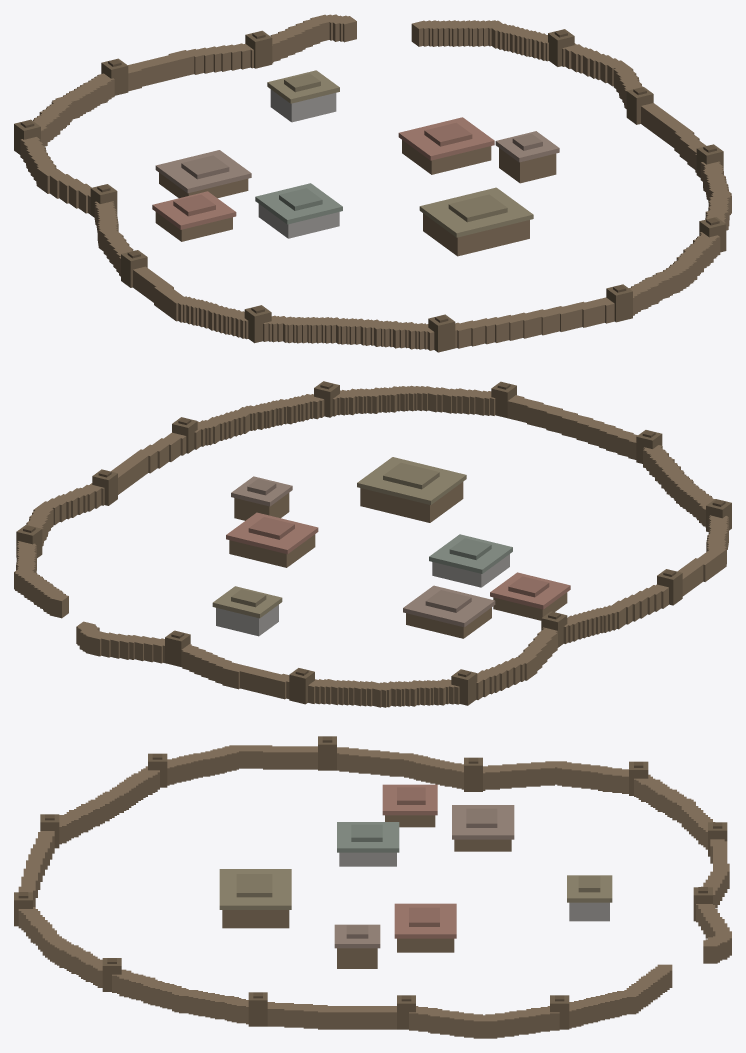
File: ciudad_guarida_bandidos_3117_63_01.glb
3 views of the same model, one above another, from view 1: azimuth 30°, elevation 25°; view 2: azimuth 150°, elevation 25°; view 3: azimuth 270°, elevation 25° (orthographic). The views are drawn at different scales.
Visible parts, largest first — view 1: ciudad_guarida_bandidos_3117_63; view 2: ciudad_guarida_bandidos_3117_63; view 3: ciudad_guarida_bandidos_3117_63.
Boxes of the visible parts, x1,y1,x2,y2 form: ciudad_guarida_bandidos_3117_63: [14, 14, 731, 352]; ciudad_guarida_bandidos_3117_63: [14, 381, 731, 707]; ciudad_guarida_bandidos_3117_63: [14, 736, 731, 1038].
Bounding box in the file's own units: 68.25 × 3.5 × 75.
